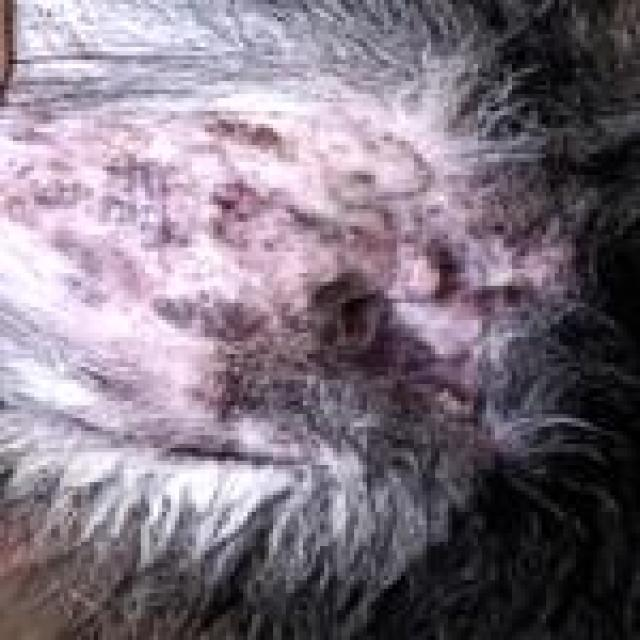fungal infection: (0, 142, 187, 246), (194, 175, 330, 257), (141, 284, 273, 346), (342, 126, 434, 199), (188, 103, 297, 164), (179, 361, 273, 430), (52, 249, 145, 313), (343, 214, 398, 272), (418, 236, 467, 296), (509, 280, 538, 318)
